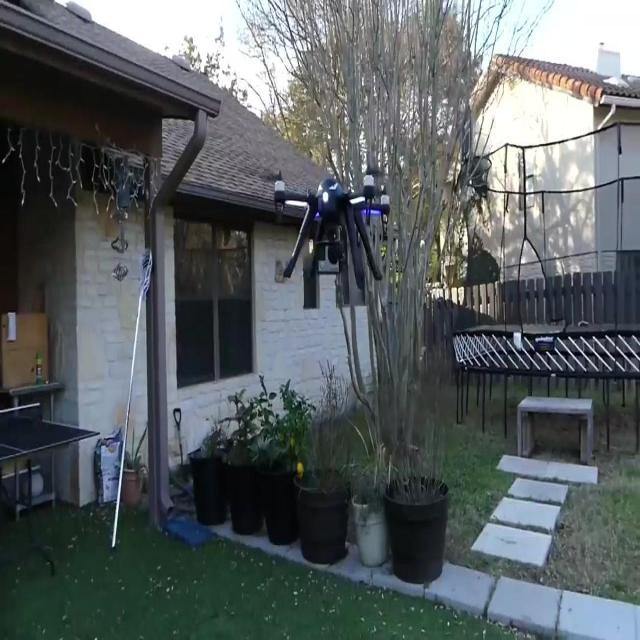drone: (262, 168, 391, 291)
